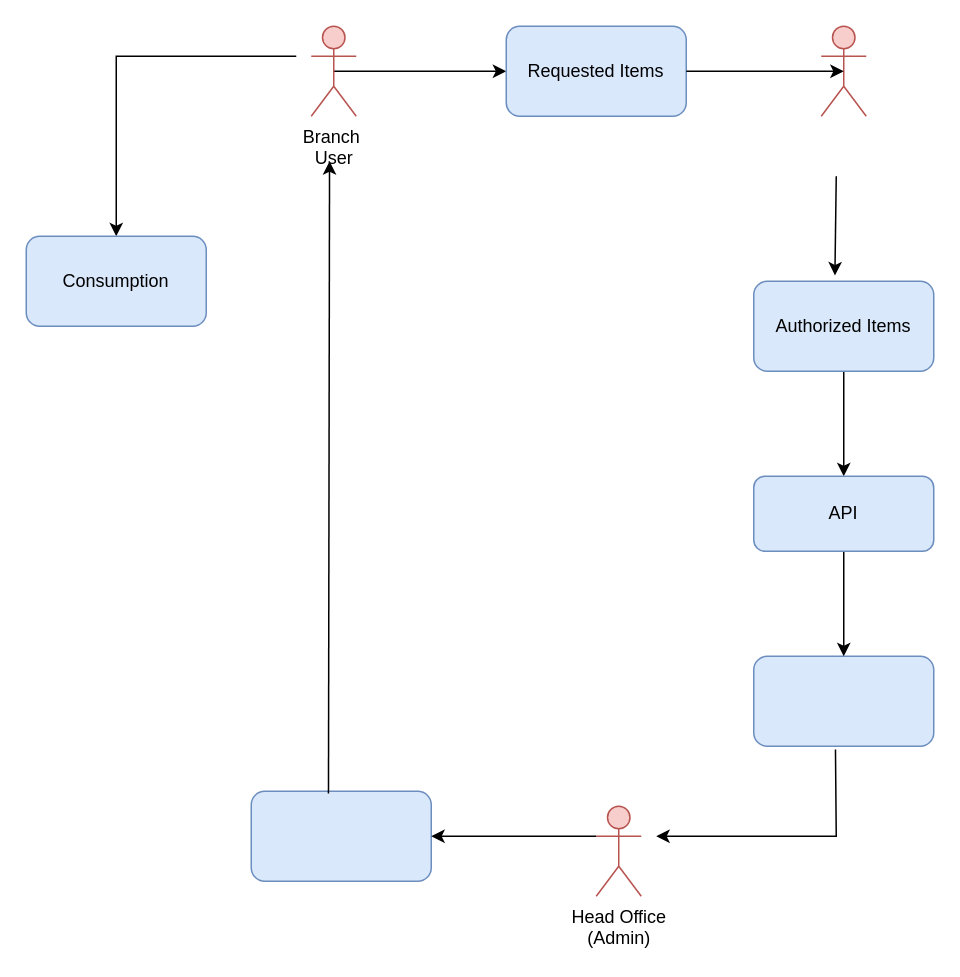
The diagram is 960 pixels wide and 977 high, and some of its shapes have lost their labels. The shapes that lost their labels are listed below. From the top down, each one's box as (x1, y1, x2, y2) in pixels, then its label:
(820, 25, 866, 116): Authorization Part ((BOIC or HOB)
(752, 655, 934, 746): Request Parked on NAV
(250, 790, 431, 881): Transfer Oder
